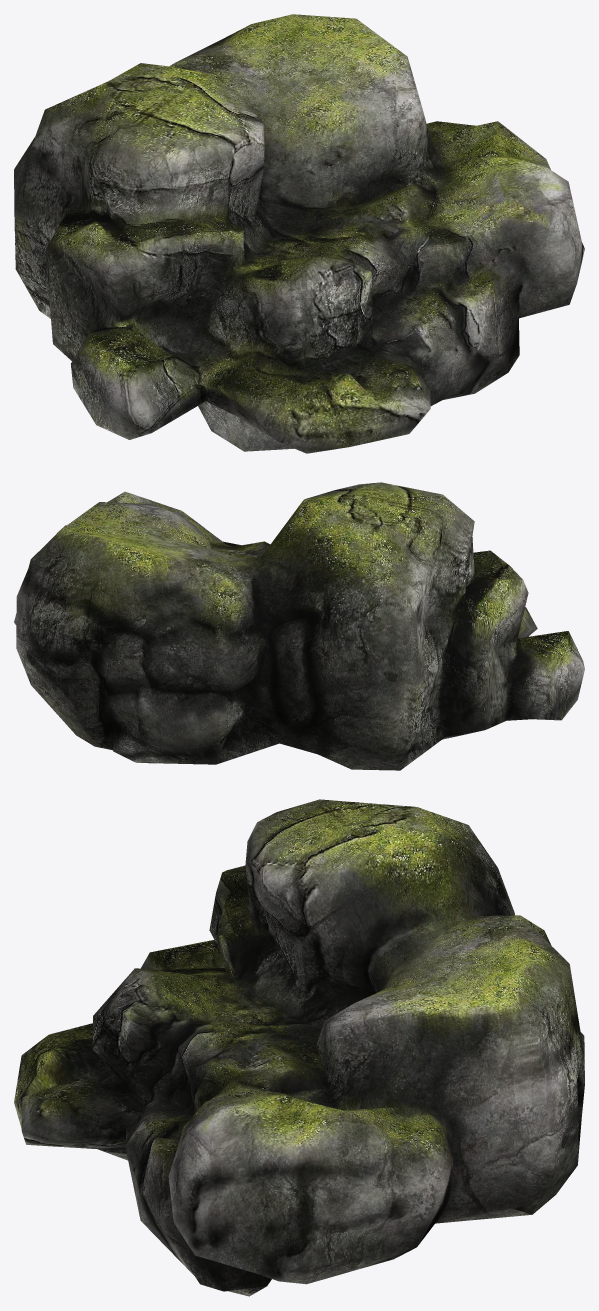
The model's file is Rock - Cliff 3-Dn8sEWUp.glb.
3 views of the same model, one above another, from view 1: azimuth 30°, elevation 25°; view 2: azimuth 150°, elevation 25°; view 3: azimuth 270°, elevation 25° (orthographic). The views are drawn at different scales.
Parts seen in each view (by area): view 1: MRL_Generic Cliff 3_LOD 0; view 2: MRL_Generic Cliff 3_LOD 0; view 3: MRL_Generic Cliff 3_LOD 0.
Part boxes in pixels (x1,y1,x2,y2): MRL_Generic Cliff 3_LOD 0: (14, 14, 584, 453); MRL_Generic Cliff 3_LOD 0: (14, 482, 584, 770); MRL_Generic Cliff 3_LOD 0: (14, 799, 584, 1296).
Size of what is drawn, in the model's own units: 49.66 by 30.76 by 45.07.
1 material, 1 textured.
